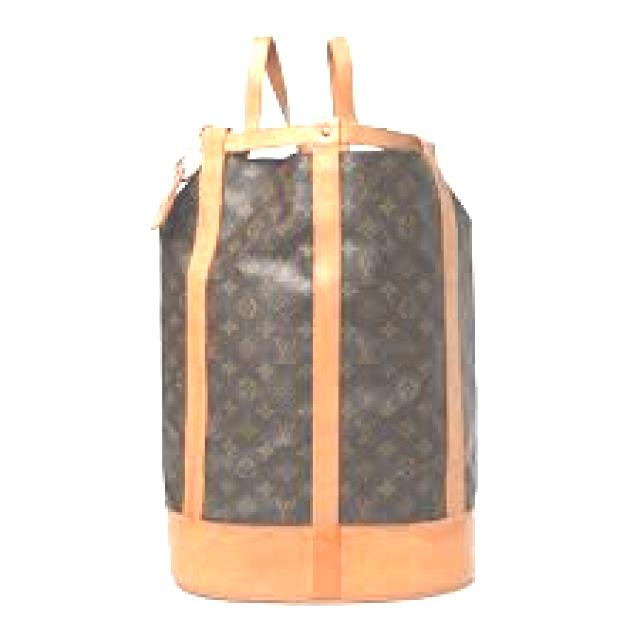backpack: (149, 32, 479, 604)
